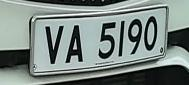0: (142, 12, 160, 56)
1: (115, 17, 128, 59)
5: (96, 19, 118, 62)
9: (128, 15, 144, 56)
A: (65, 23, 87, 67)
V: (42, 23, 65, 68)
